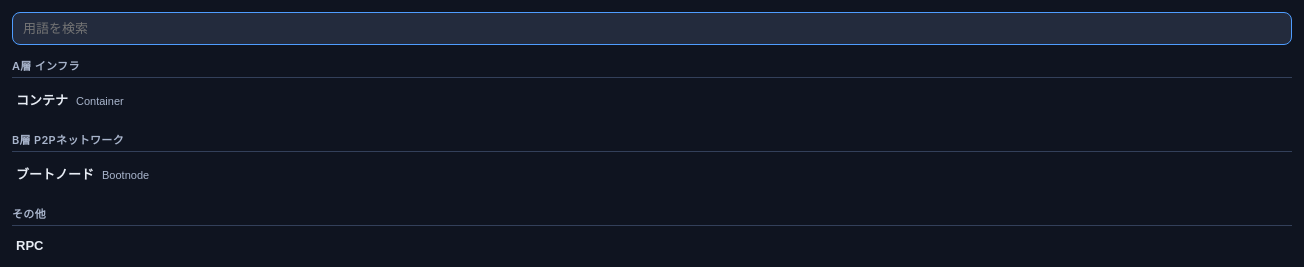
Test: GlossaryPanelView: search (Issue #313 UX設計 §3.6) › filters rows incrementally as the user types, hiding groups with no matches
Type "boot" into the search field with test id "glossary-panel-search" at coordinates (652, 28), box [12,12,1292,45]
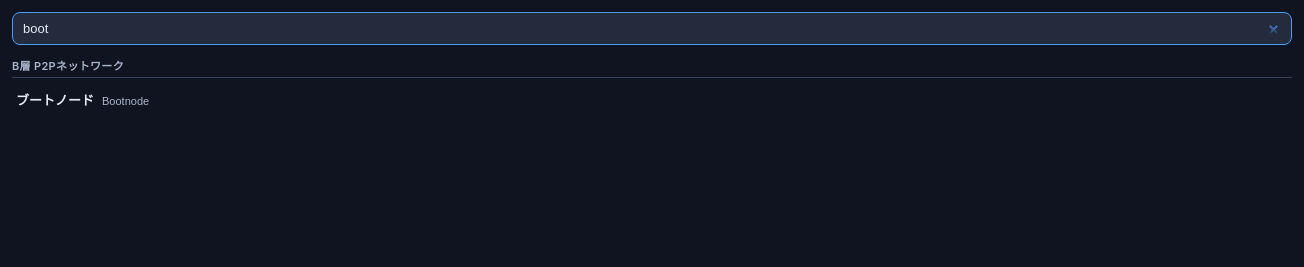
Expected: the element with test id "glossary-panel-term-bootnode" is shown, [12,82,1292,117]
Now the element with test id "glossary-panel-term-container" is gone
Now the element with test id "glossary-panel-group-a" is gone
